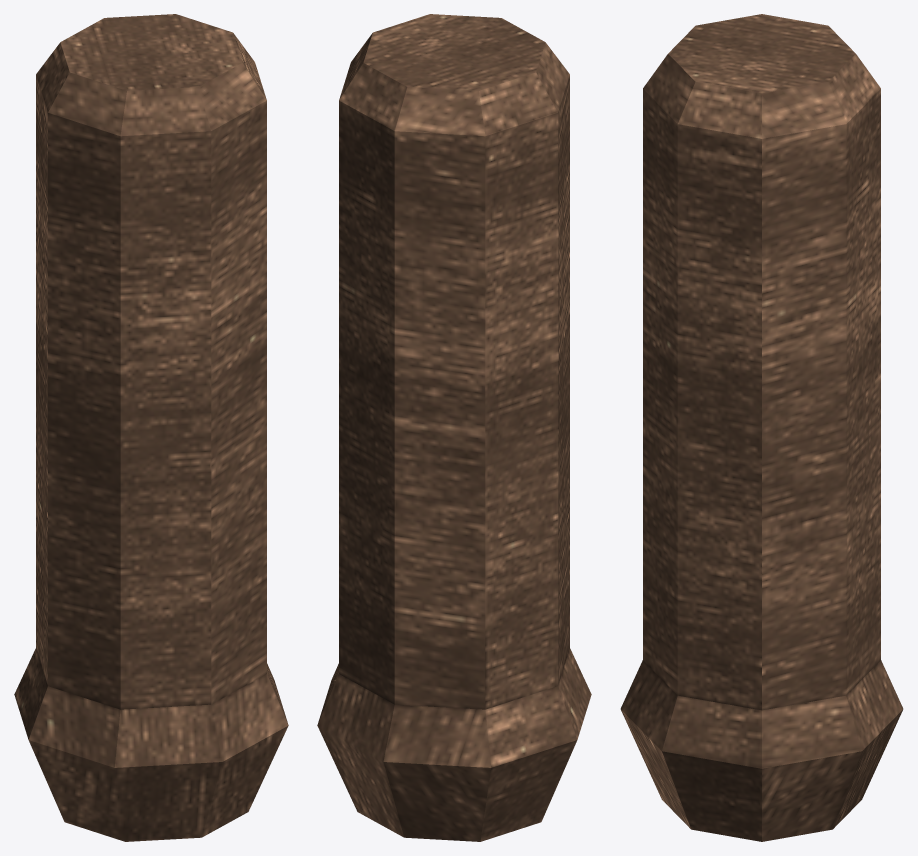
The model's file is cokeconcasseur.obj.
The picture shows the model from 3 angles, left to right: view 1: azimuth 30°, elevation 25°; view 2: azimuth 150°, elevation 25°; view 3: azimuth 270°, elevation 25°; orthographic projection.
Parts seen in each view (by area): view 1: Cylinder_Cylinder.001; view 2: Cylinder_Cylinder.001; view 3: Cylinder_Cylinder.001.
Boxes of the visible parts, box(x1,y1,x2,y2) form: Cylinder_Cylinder.001: box(14, 14, 288, 841); Cylinder_Cylinder.001: box(317, 14, 591, 841); Cylinder_Cylinder.001: box(620, 14, 903, 841).
Size of the model in its own units: 0.1536 by 0.4692 by 0.1536.
1 material, 1 textured.
